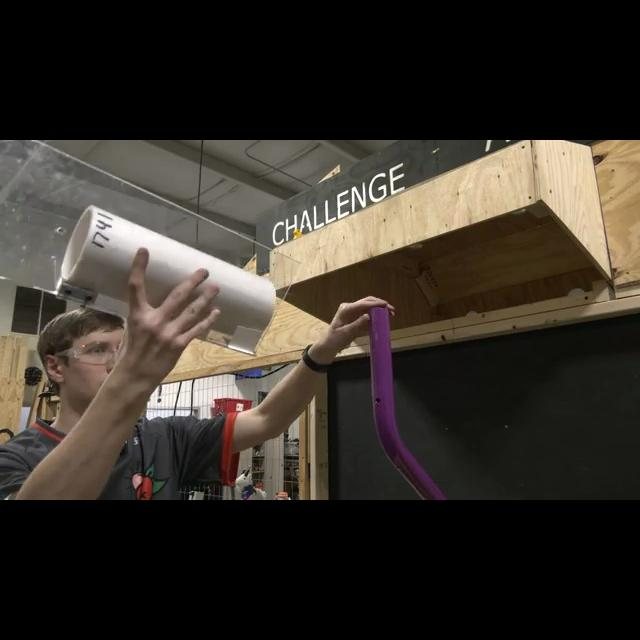CORAL: (57, 203, 277, 353)
